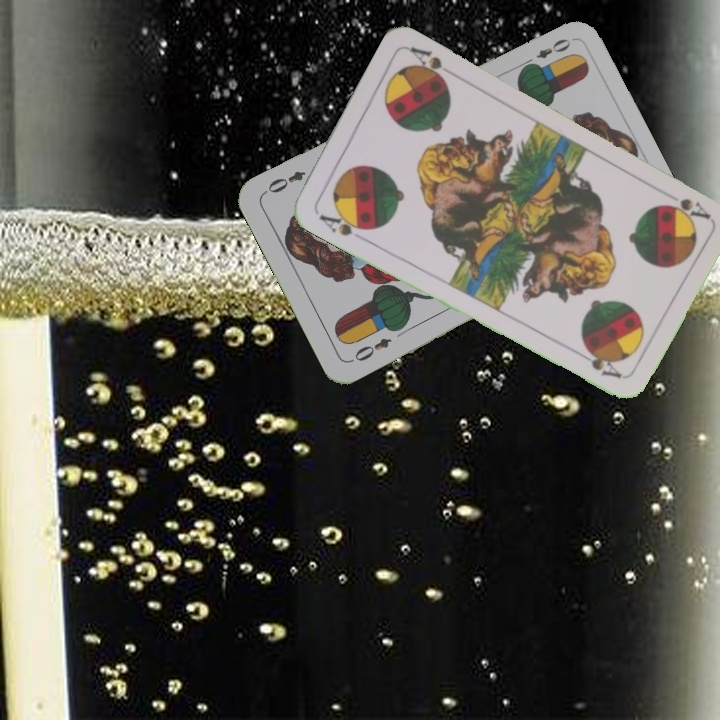EO: (519, 34, 574, 70), (346, 334, 394, 365)
SA: (314, 206, 372, 239), (661, 194, 712, 223)
